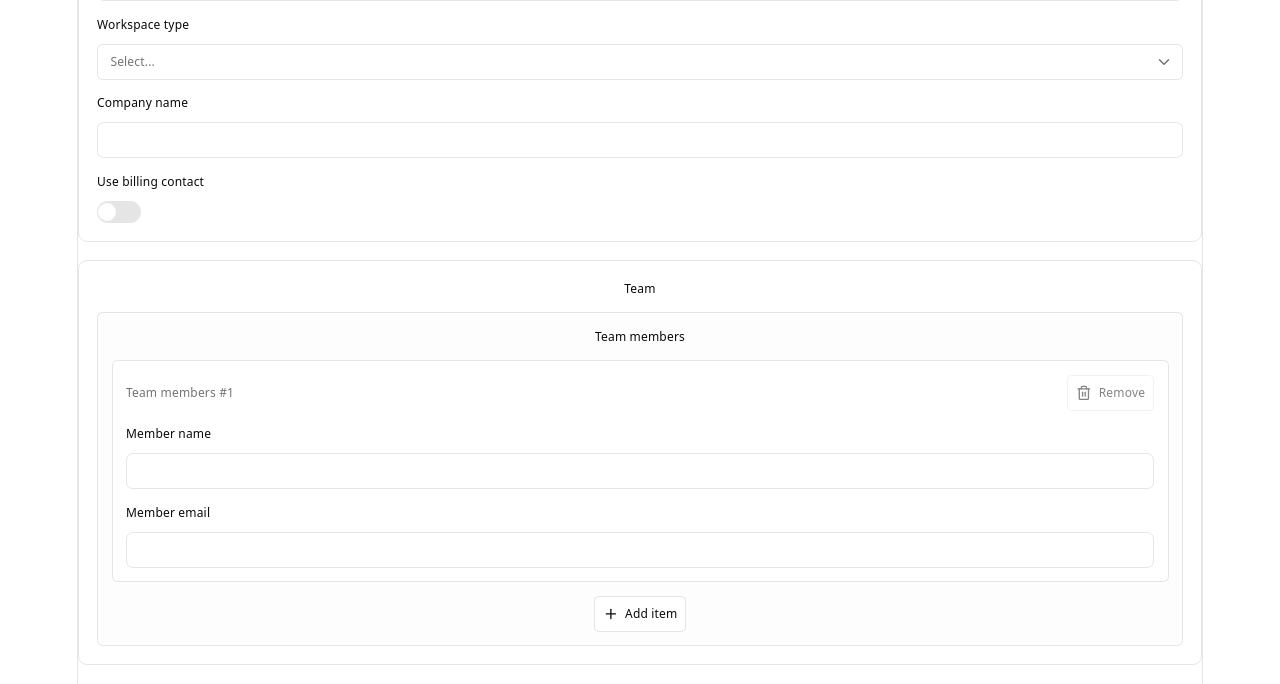
Scenario: SchemaForm › adds and removes repeatable group rows
(page scrolled)
Check: the text "Team members #1" is shown, box [126,382,234,402]
Click the button "Add item": (640, 614) [594,596,686,632]
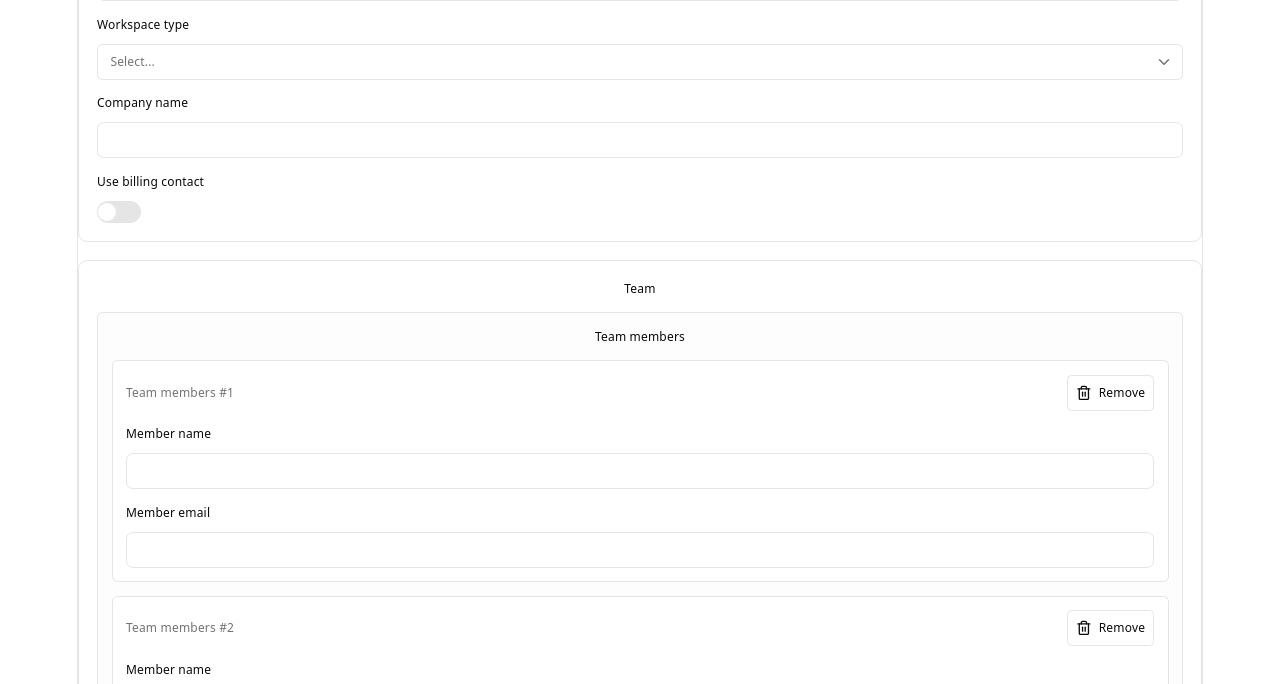
Check: the text "Team members #2" is shown, box [126,618,234,638]
Click the button "Remove" in the row of "Team members #2": (1111, 628) [1067,610,1154,646]
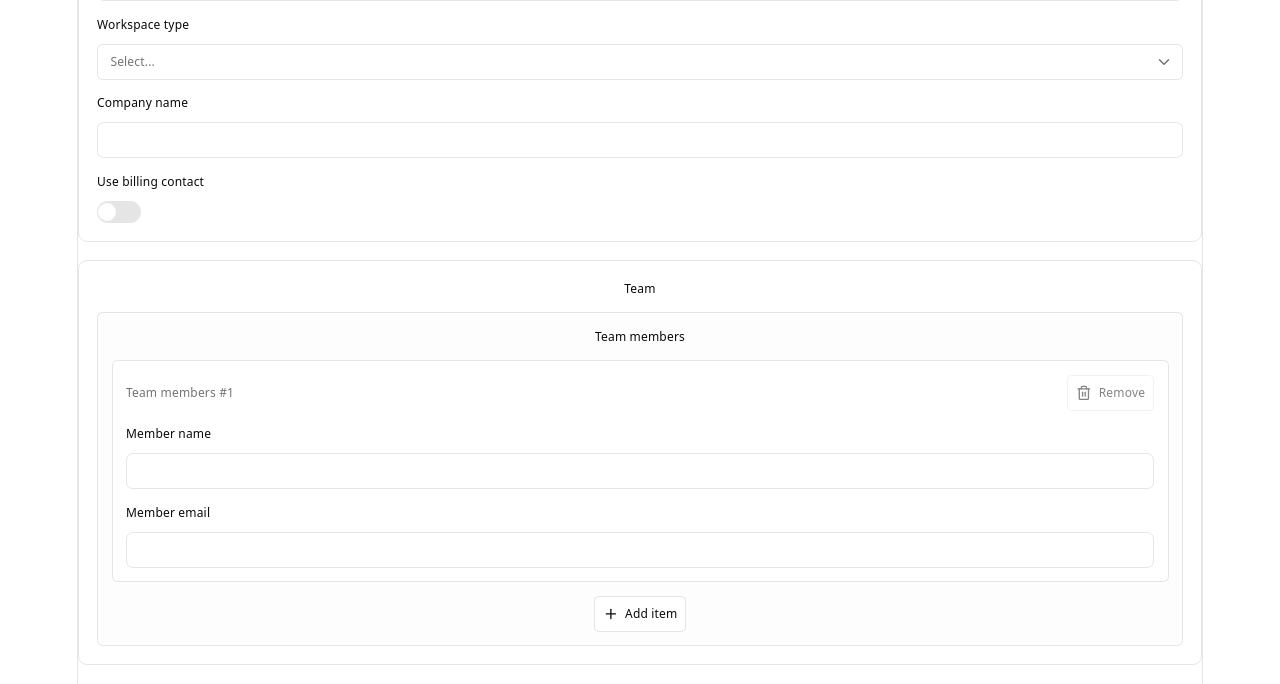
Check: the text "Team members #2" is gone
Check: the button "Remove" is disabled, box [1067,374,1154,410]
